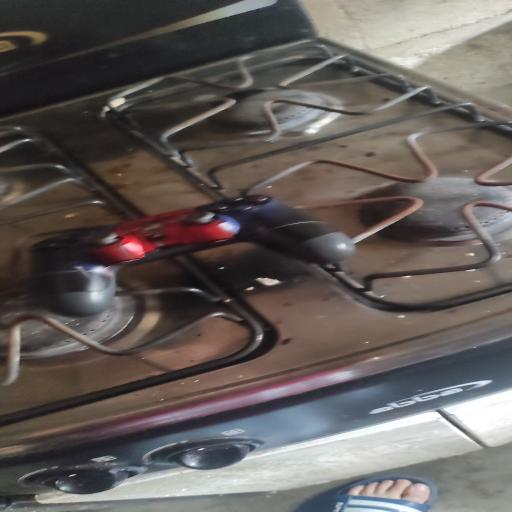ControlPlay4: (31, 194, 355, 316)
